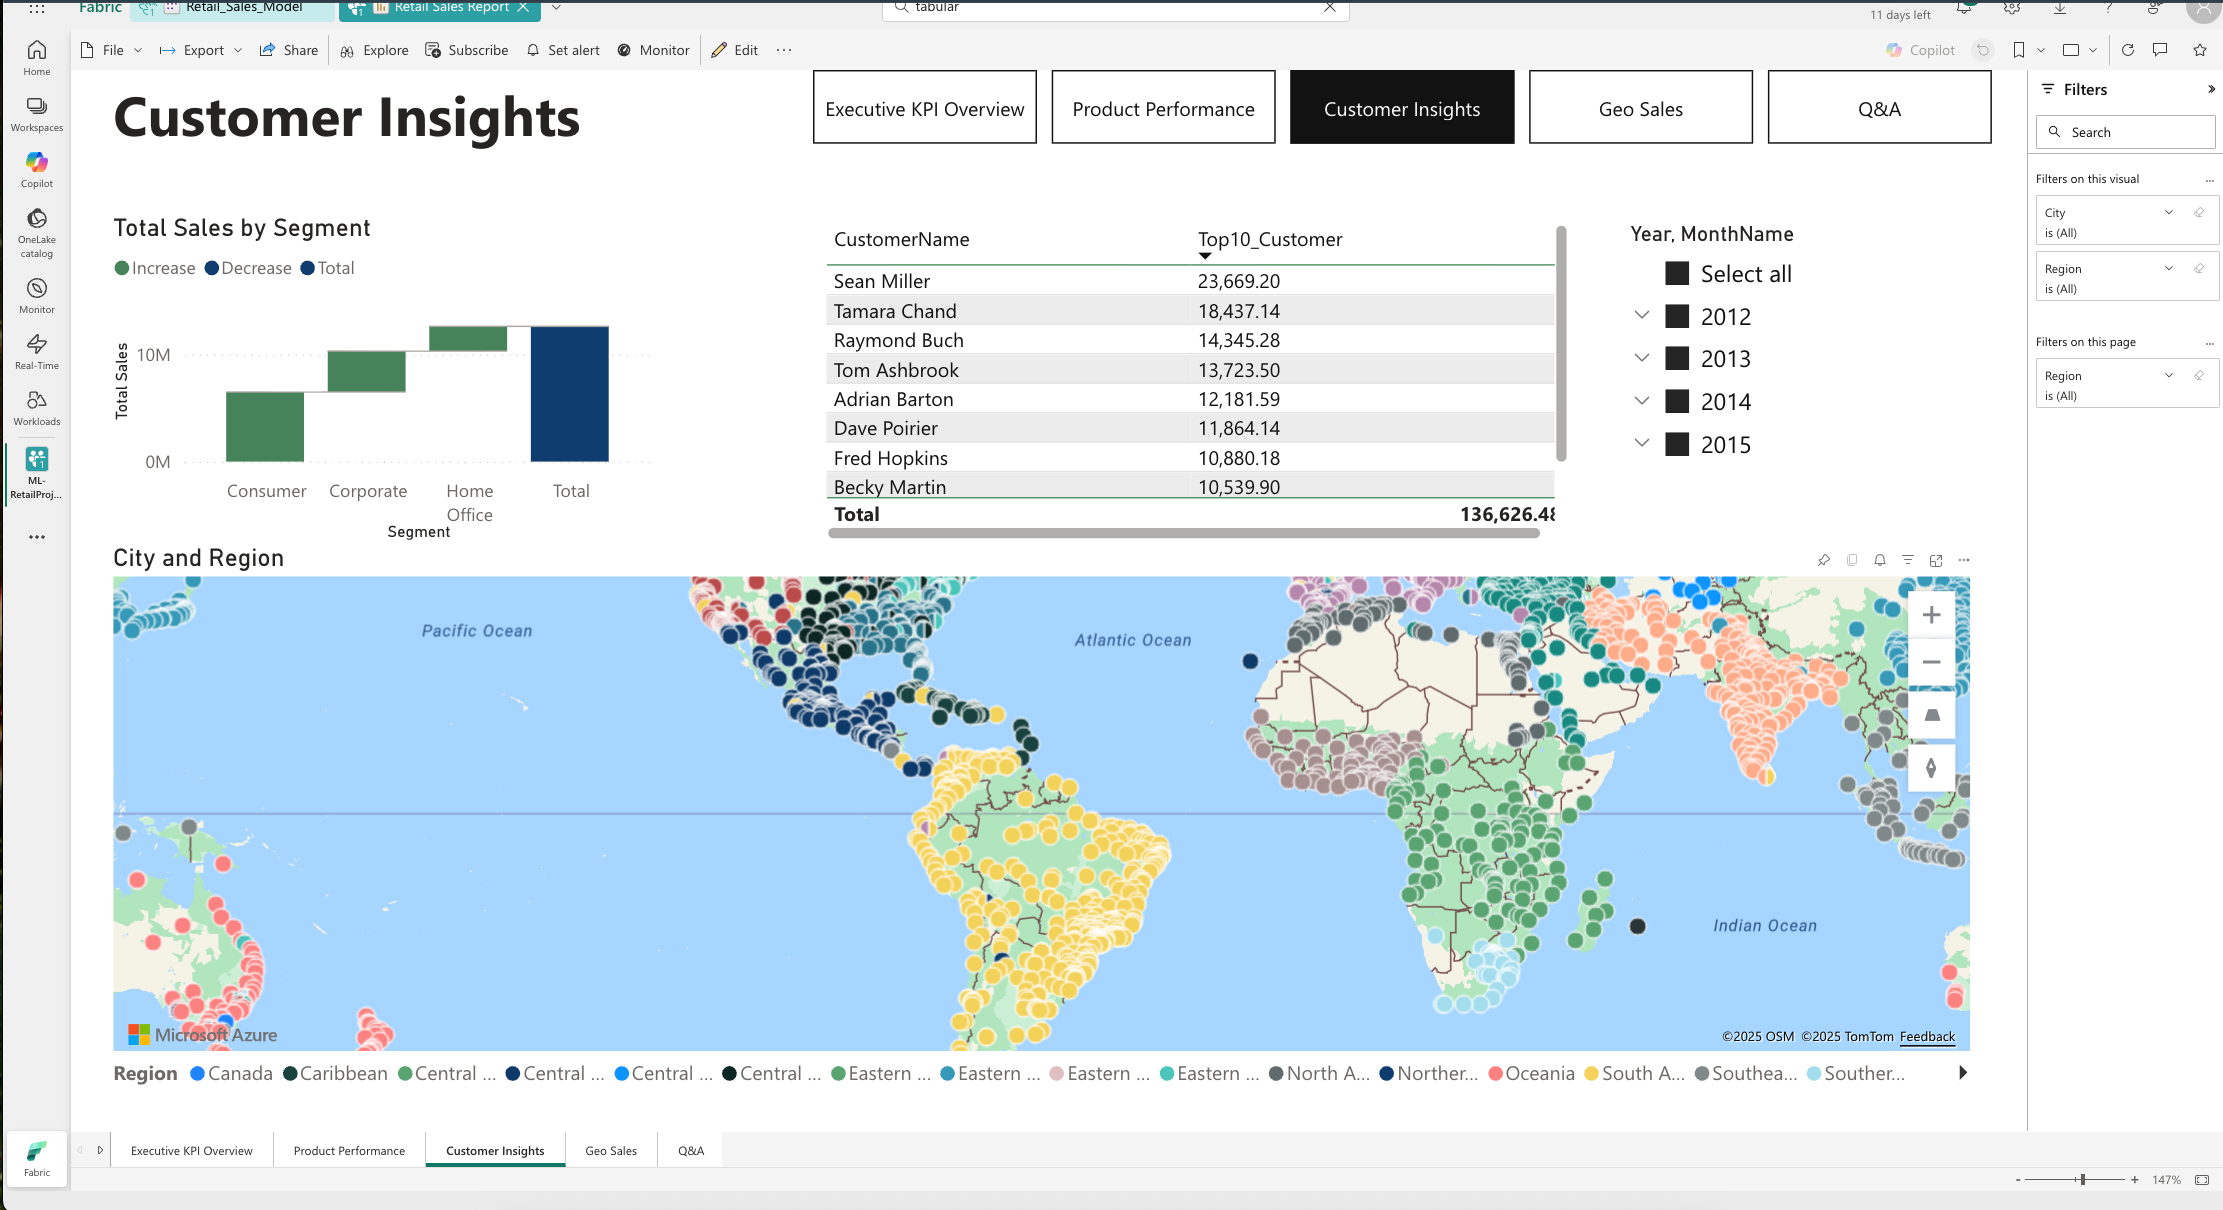

The page's visual inventory and layout, read from the dashboard file:
{"tool":"powerbi","page":{"name":"Customer Insights","canvas":[1280,720],"ordinal":2},"visuals":[{"type":"waterfallChart","fields":{"Category":["gold_dim_customer.Segment"],"Y":["gold_fact_sales.Total Sales"]},"box":[0,100,376,224],"z":0},{"type":"tableEx","fields":{"Values":["gold_dim_customer.CustomerName","gold_fact_sales.Top10_Customer"]},"box":[483,100,514,224],"z":1000},{"type":"slicer","title":"Year Month Filter","fields":{"Values":["gold_dim_date.Year","gold_dim_date.MonthName"]},"box":[1021,100,259,280],"z":2000},{"type":"azureMap","fields":{"Series":["gold_dim_geo.Region"],"Category":["gold_dim_geo.City"]},"box":[0,324,1270,376],"z":3000},{"type":"textbox","box":[0,0,400,88],"z":4000},{"type":"pageNavigator","box":[480,0,800,50],"z":5000}]}

Visuals, with their boxes on the page's 1280x720 design canvas (x1, y1, x2, y2). These are canvas units, not pixel positions in the 2223x1210 screenshot, which may show the page scaled, cropped or inside an application window:
waterfallChart - gold_dim_customer.Segment x gold_fact_sales.Total Sales: 0, 100, 376, 324
tableEx - gold_dim_customer.CustomerName x gold_fact_sales.Top10_Customer: 483, 100, 997, 324
"Year Month Filter" slicer: 1021, 100, 1280, 380
azureMap - gold_dim_geo.Region x gold_dim_geo.City: 0, 324, 1270, 700
textbox: 0, 0, 400, 88
pageNavigator: 480, 0, 1280, 50
